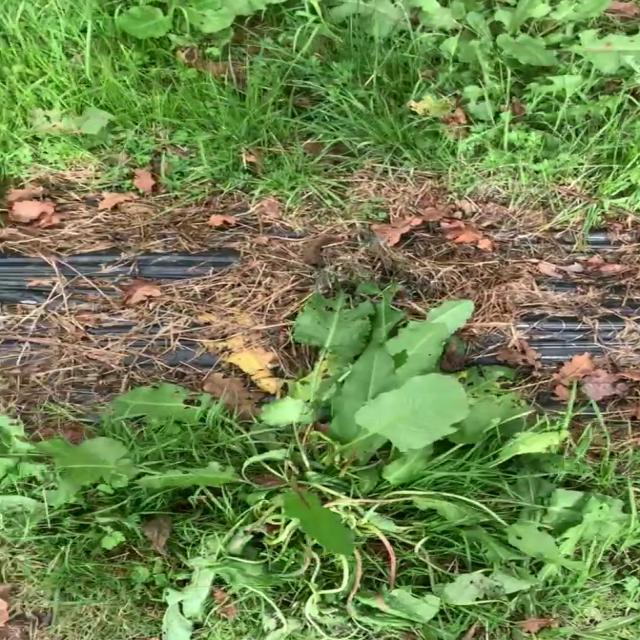organic waste: (41, 260, 614, 640), (367, 0, 640, 128), (45, 0, 288, 64)
